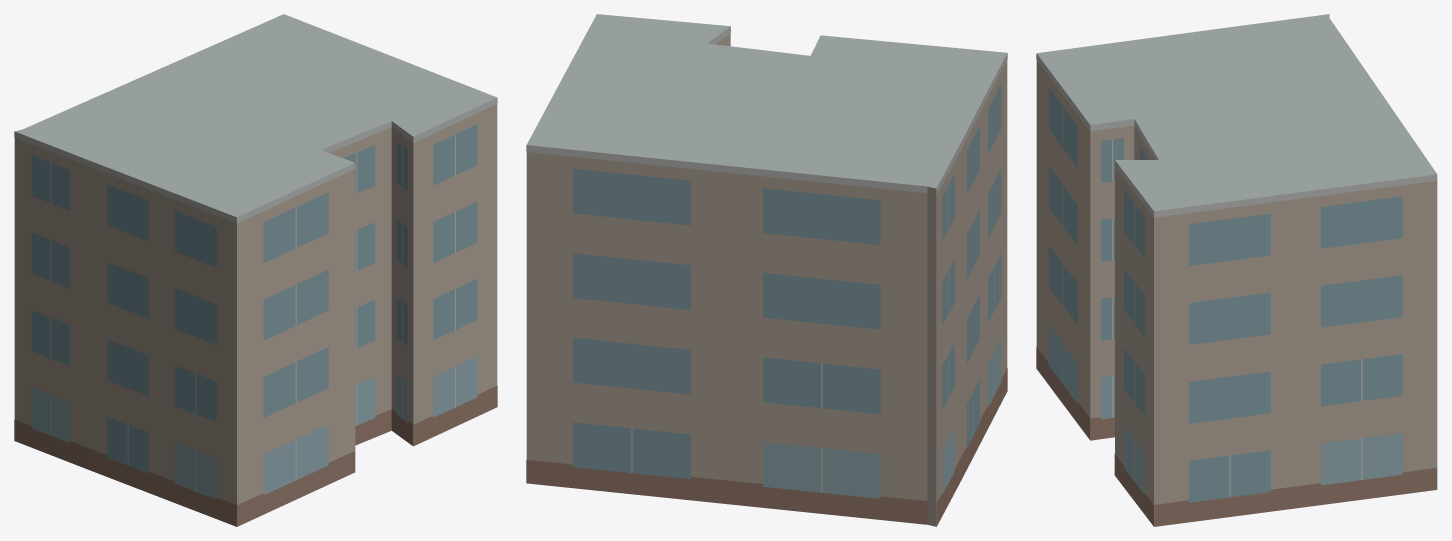
Rendered from survey-upis-32693123.glb.
3 views of the same model, side by side, from view 1: azimuth 30°, elevation 25°; view 2: azimuth 150°, elevation 25°; view 3: azimuth 270°, elevation 25° (orthographic). The views are drawn at different scales.
Parts seen in each view (by area): view 1: survey-upis-32693123.tmp; view 2: survey-upis-32693123.tmp; view 3: survey-upis-32693123.tmp.
Part boxes in pixels (bbox=[...]): survey-upis-32693123.tmp: bbox=[14, 14, 497, 526]; survey-upis-32693123.tmp: bbox=[526, 14, 1007, 526]; survey-upis-32693123.tmp: bbox=[1036, 14, 1437, 526].
Bounding box in the file's own units: 16.17 × 12.04 × 13.87.
